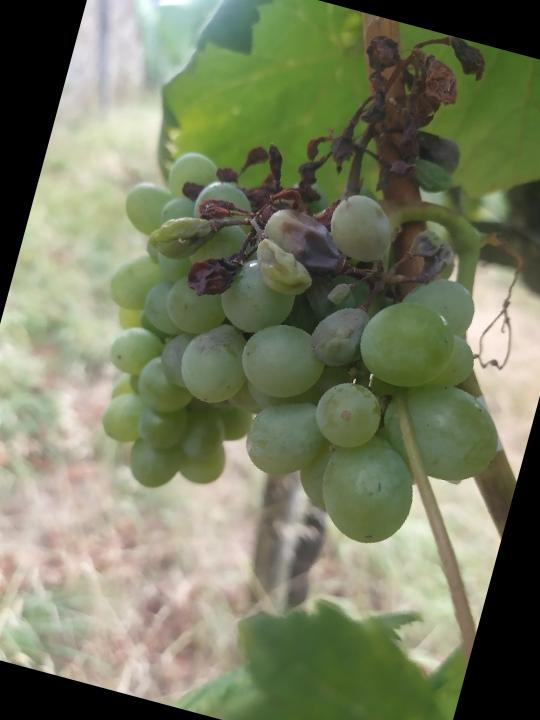grape: (50, 0, 540, 578)
